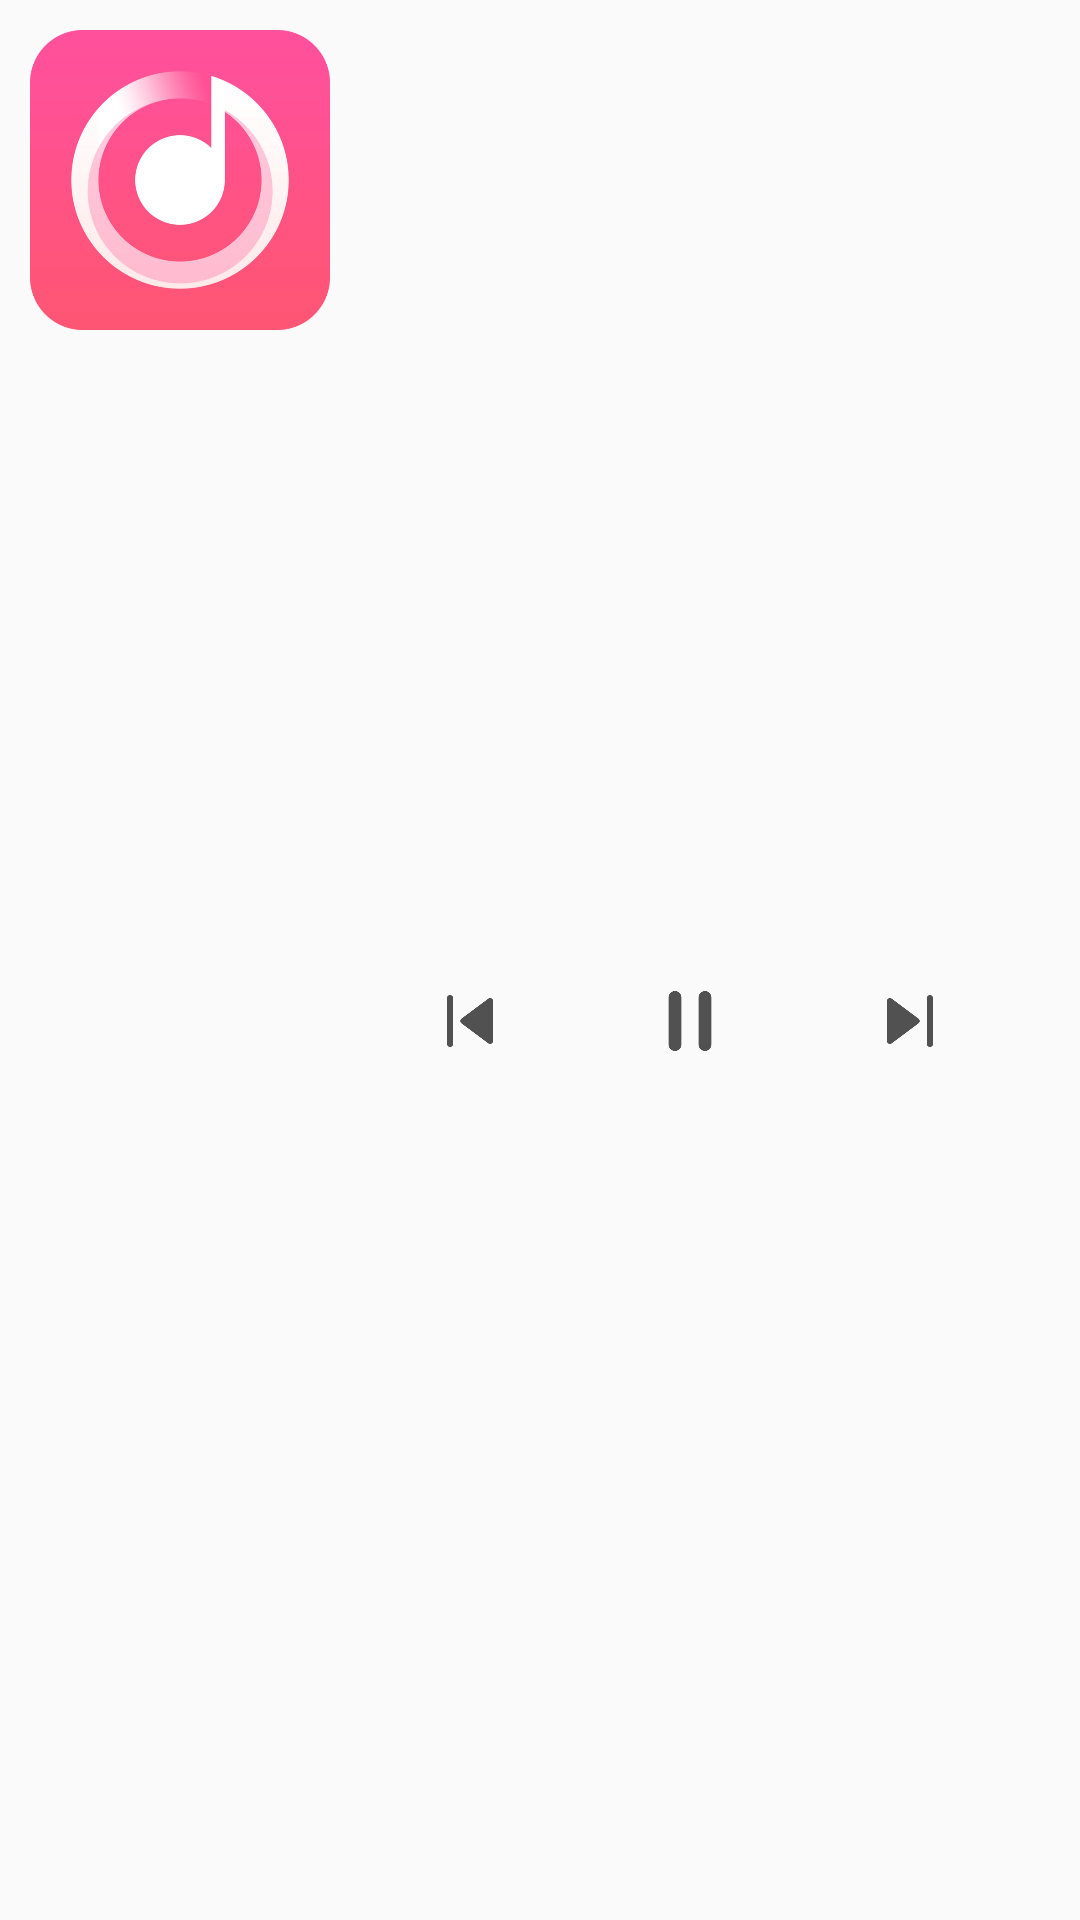

Screen size 1080px x 1920px. Icon name, then its box in pixels as bbox=(x1, y1, x2, y2):
music: bbox=(30, 30, 330, 330)
pause notifi: bbox=(668, 991, 712, 1051)
play next: bbox=(887, 995, 933, 1047)
play pre: bbox=(447, 995, 493, 1047)
